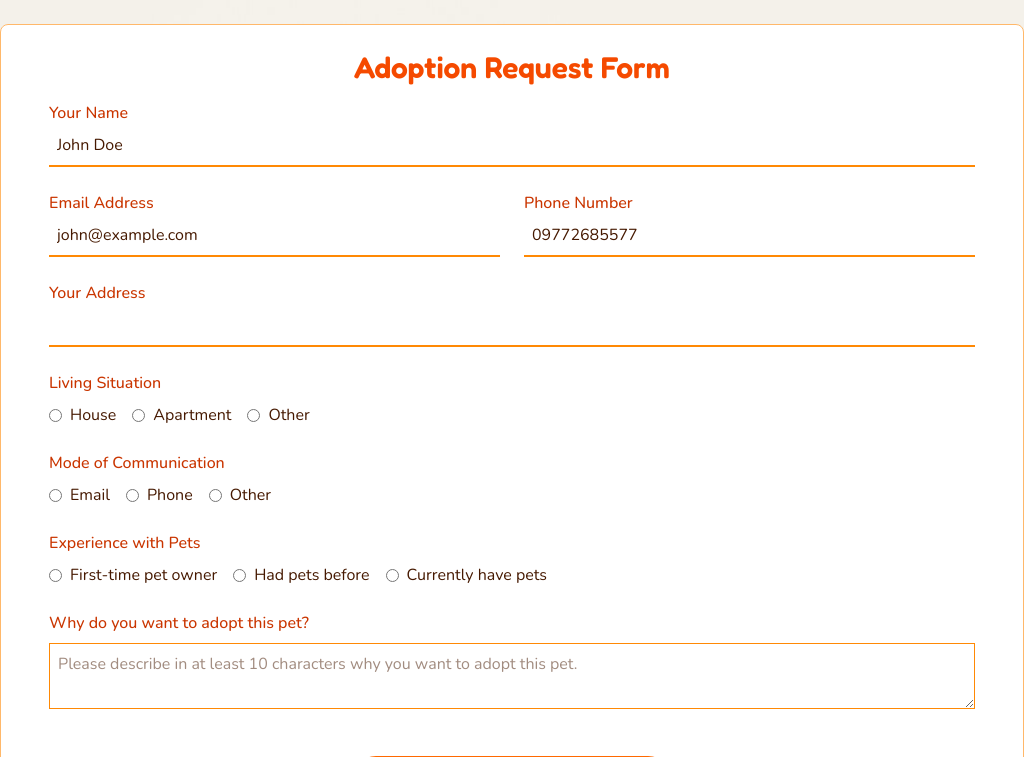
Test: AdoptionForm › should show the 'Other' field when 'Other' is selected for living situation
Click the radio button with test id "Other-situation-input": (254, 415) left=247, top=408, right=260, bottom=422
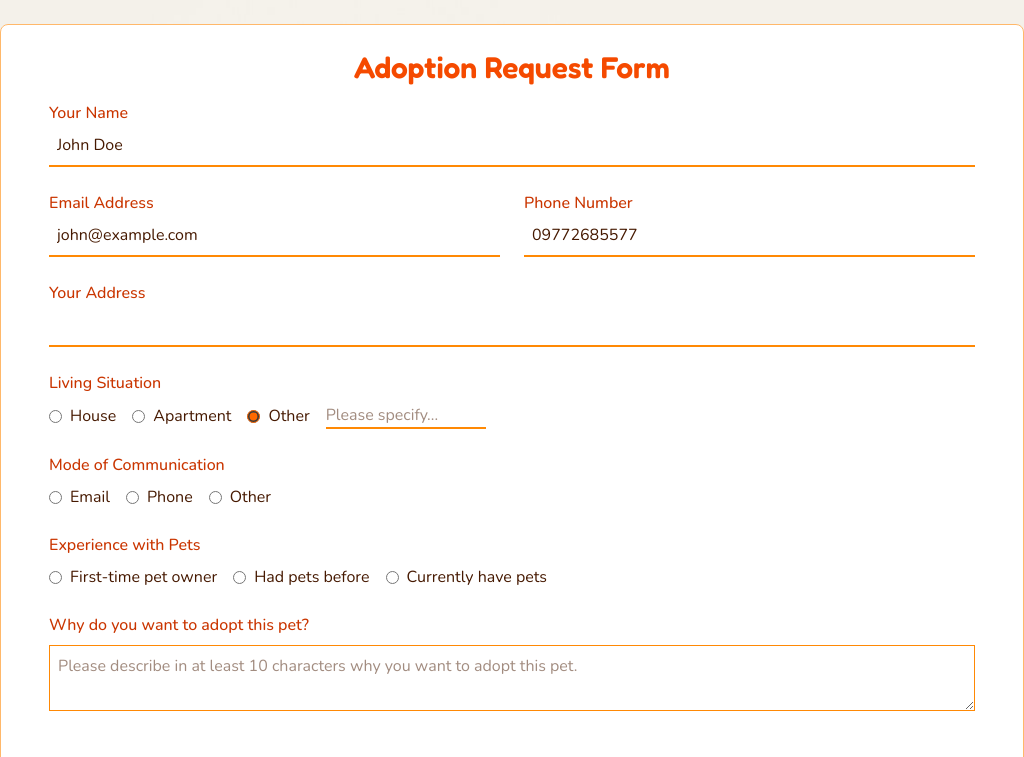
Check: the field with test id "situation-other-input" is shown, box left=326, top=403, right=486, bottom=429
